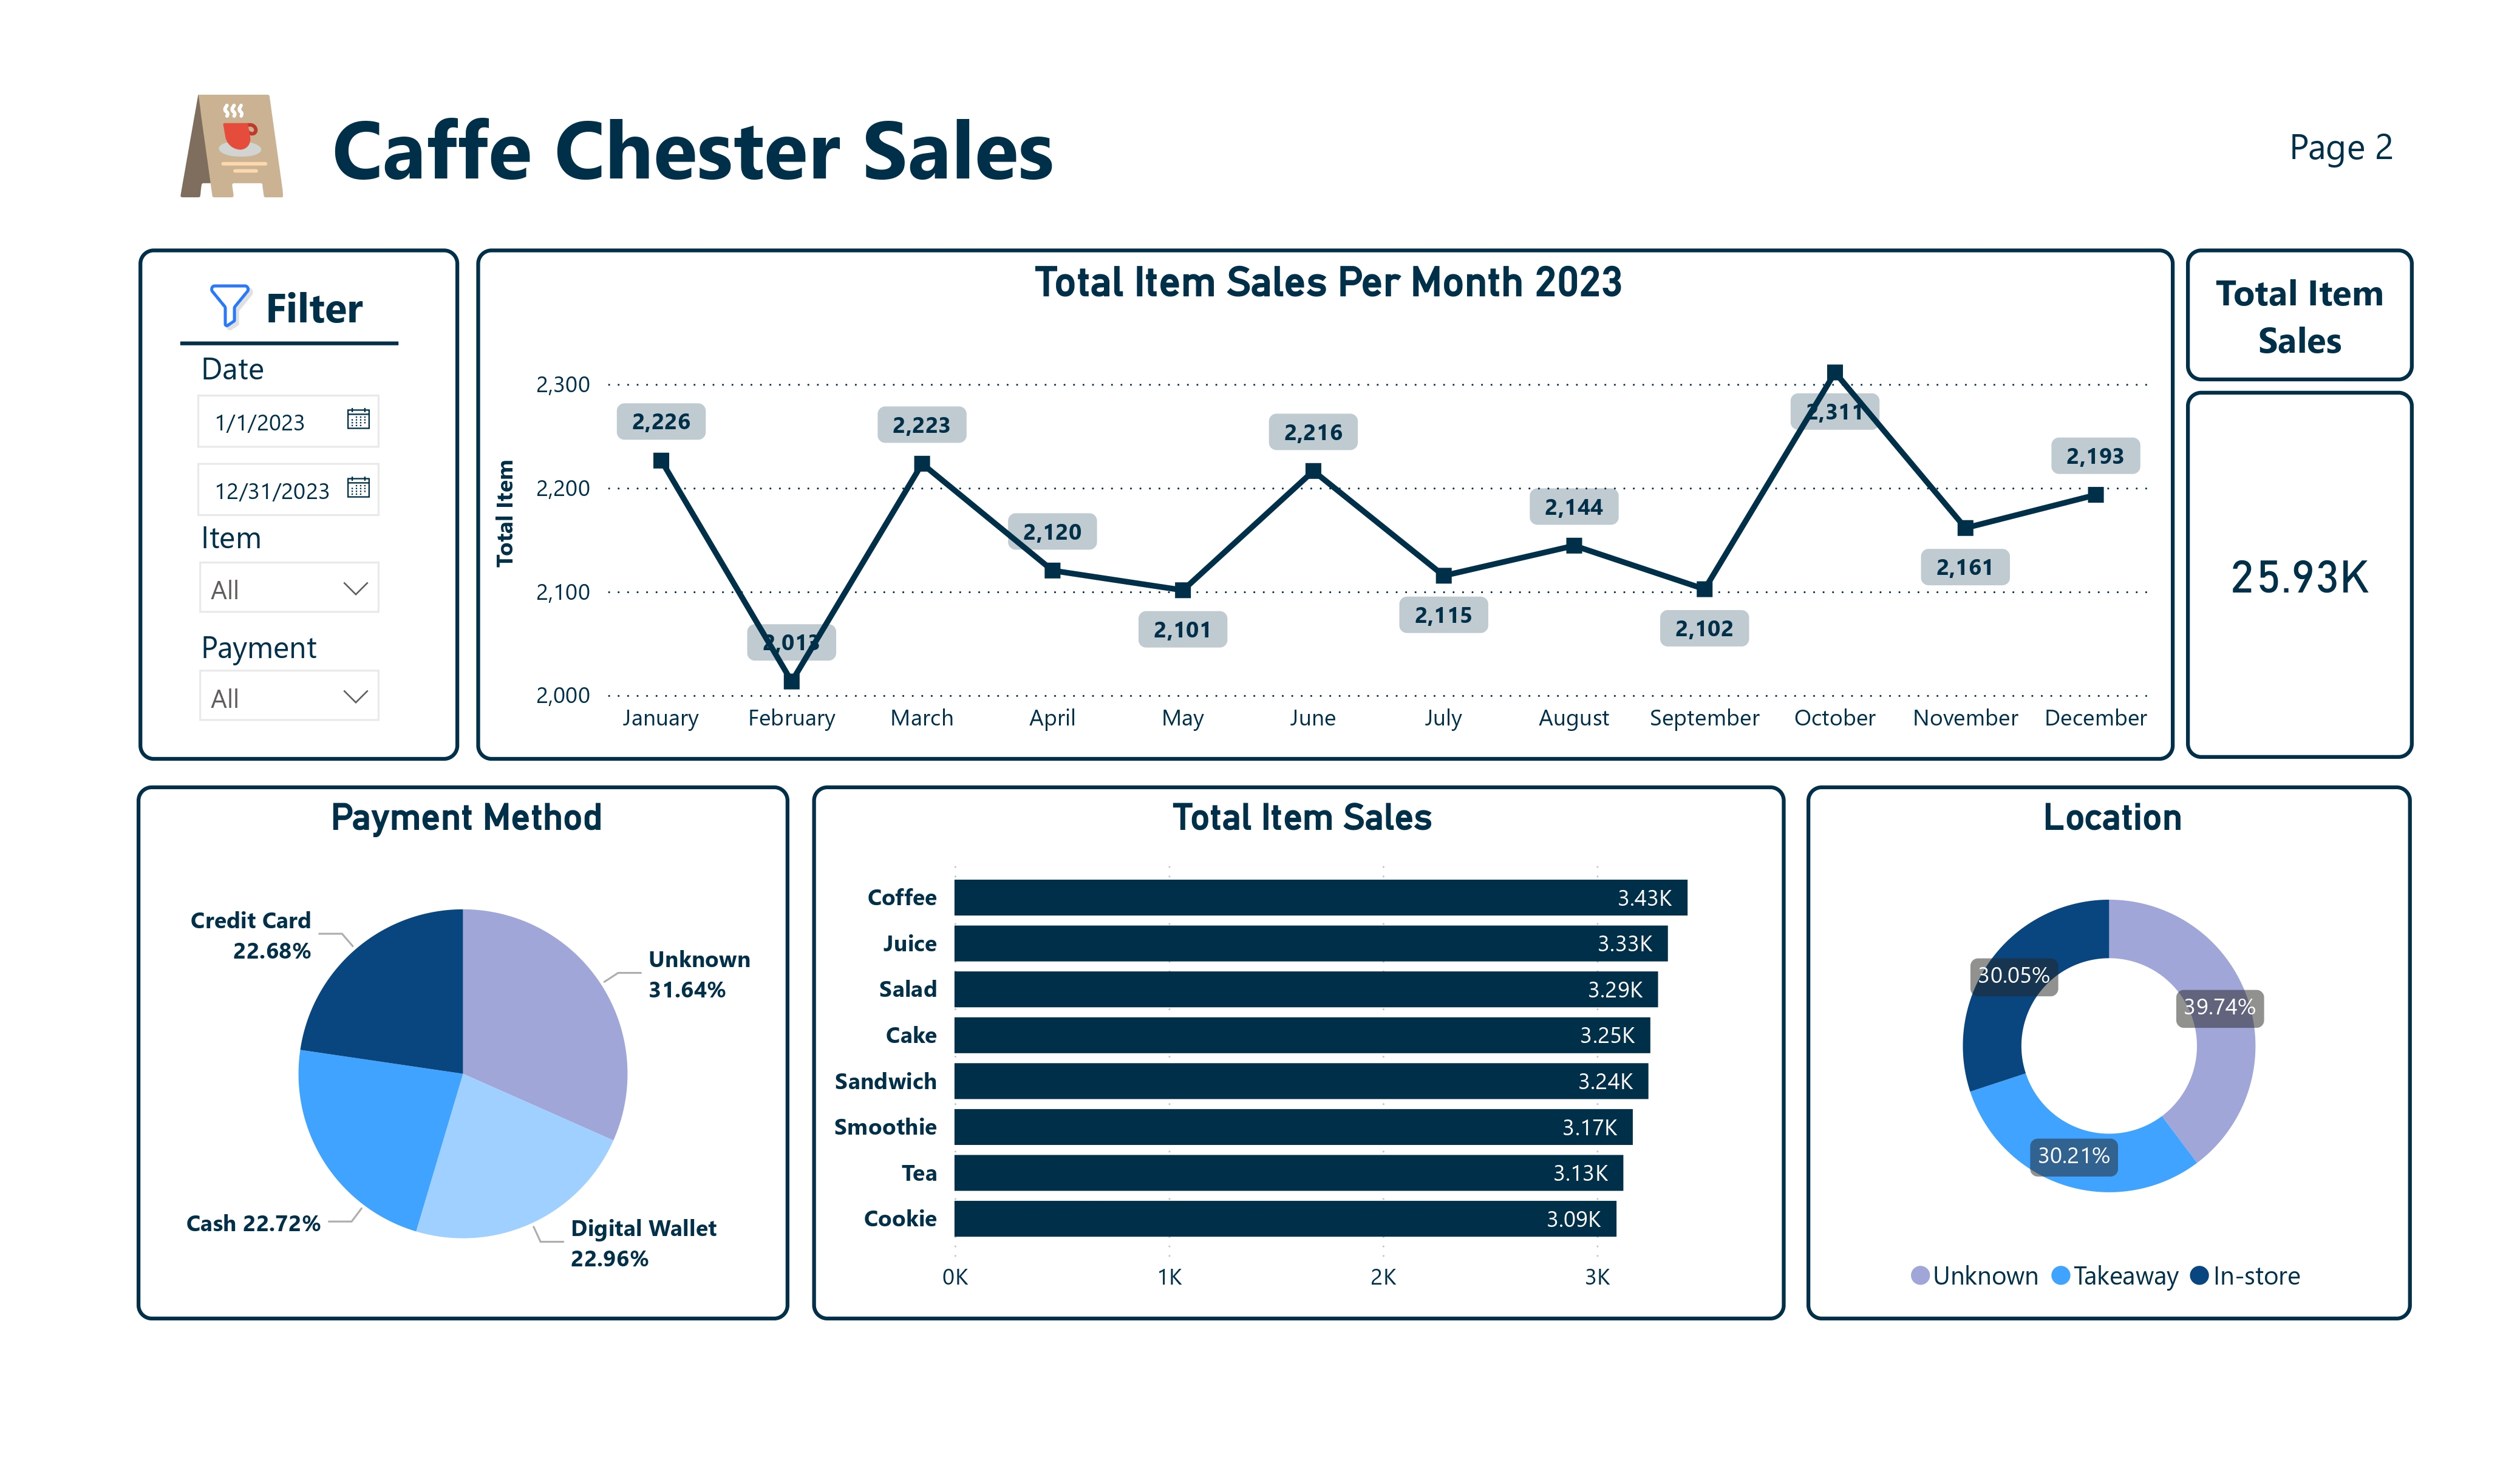

This screenshot's page, from the dashboard's own definition file:
{"tool":"powerbi","page":{"name":"Page 2","canvas":[1280,720],"ordinal":1},"visuals":[{"type":"textbox","box":[145.7,18.6,412.9,70],"z":0},{"type":"image","box":[58,26,80,54],"z":1000},{"type":"textbox","box":[1173.5,34.5,73.3,37.4],"z":2000},{"type":"lineChart","title":"Total Item Sales Per Month 2023","fields":{"Category":["Clean_Cafe_Sales.Transaction Date.Variation.Date Hierarchy.Month"],"Y":["Sum(Clean_Cafe_Sales.Quantity)"]},"box":[226.7,106.7,895,270],"z":3000},{"type":"barChart","title":"Total Item Sales","fields":{"Category":["Clean_Cafe_Sales.Item"],"Y":["Sum(Clean_Cafe_Sales.Quantity)"]},"box":[404,390,512.7,282],"z":4000},{"type":"pieChart","title":"Payment Method","fields":{"Category":["Clean_Cafe_Sales.Payment Method"],"Y":["CountNonNull(Clean_Cafe_Sales.Payment Method)"]},"box":[48,390,344,282],"z":5000},{"type":"card","fields":{"Values":["Sum(Clean_Cafe_Sales.Quantity)"]},"box":[1128.5,182.3,120,193.8],"z":6000},{"type":"textbox","box":[1127.7,106.9,120,70],"z":7000},{"type":"donutChart","title":"Location","fields":{"Category":["Clean_Cafe_Sales.Location"],"Y":["CountNonNull(Clean_Cafe_Sales.Location)"]},"box":[928.3,390,318.3,281.7],"z":8000},{"type":"shape","box":[48.9,106.8,169.3,270],"z":9000},{"type":"textbox","box":[106.1,118.3,71.3,38.7],"z":10000},{"type":"slicer","fields":{"Values":["Clean_Cafe_Sales.Transaction Date"]},"box":[67.2,173.6,118.9,82.8],"z":11000},{"type":"slicer","fields":{"Values":["Clean_Cafe_Sales.Item"]},"box":[71.2,261.9,115,50],"z":12000},{"type":"textbox","box":[77,153.8,51.7,34],"z":13000},{"type":"textbox","box":[77,243.2,50.3,32.7],"z":14000},{"type":"shape","box":[71.2,148.8,115,16.2],"z":15000},{"type":"image","box":[80.4,121.7,34.8,32.2],"z":16000},{"type":"slicer","fields":{"Values":["Clean_Cafe_Sales.Payment Method"]},"box":[71,319.5,115,50],"z":17000},{"type":"textbox","box":[76.9,300.8,83.1,33.1],"z":18000}]}

Visuals, with their boxes on the page's 1280x720 design canvas (x1, y1, x2, y2). These are canvas units, not pixel positions in the 2520x1457 screenshot, which may show the page scaled, cropped or inside an application window:
textbox: left=146, top=19, right=559, bottom=89
image: left=58, top=26, right=138, bottom=80
textbox: left=1174, top=34, right=1247, bottom=72
"Total Item Sales Per Month 2023" lineChart: left=227, top=107, right=1122, bottom=377
"Total Item Sales" barChart: left=404, top=390, right=917, bottom=672
"Payment Method" pieChart: left=48, top=390, right=392, bottom=672
card - Sum(Clean_Cafe_Sales.Quantity): left=1128, top=182, right=1248, bottom=376
textbox: left=1128, top=107, right=1248, bottom=177
"Location" donutChart: left=928, top=390, right=1247, bottom=672
shape: left=49, top=107, right=218, bottom=377
textbox: left=106, top=118, right=177, bottom=157
slicer - Clean_Cafe_Sales.Transaction Date: left=67, top=174, right=186, bottom=256
slicer - Clean_Cafe_Sales.Item: left=71, top=262, right=186, bottom=312
textbox: left=77, top=154, right=129, bottom=188
textbox: left=77, top=243, right=127, bottom=276
shape: left=71, top=149, right=186, bottom=165
image: left=80, top=122, right=115, bottom=154
slicer - Clean_Cafe_Sales.Payment Method: left=71, top=320, right=186, bottom=370
textbox: left=77, top=301, right=160, bottom=334
